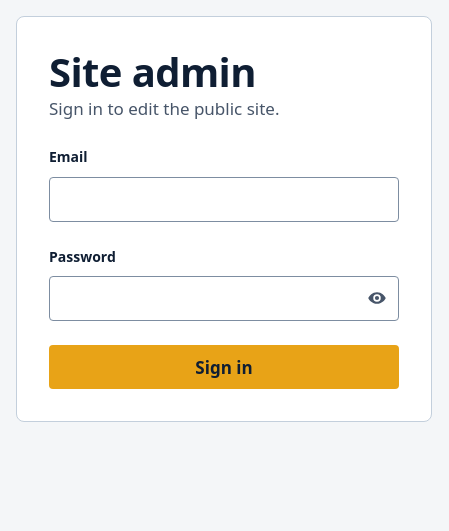
admin session › shows the backend's message when sign-in fails
Type "admin@example.com" into the field labelled "Email" at (224, 199), box x1=49 y1=177 x2=399 y2=222
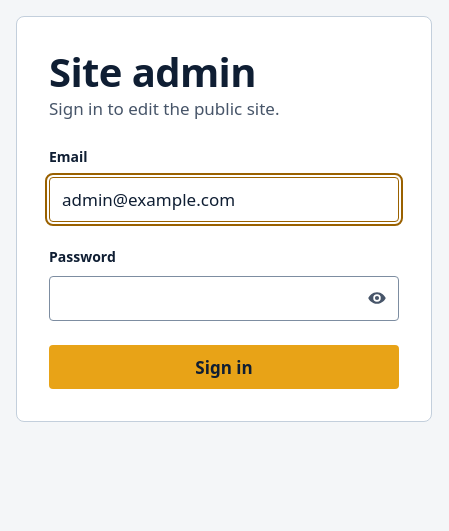
Type "wrong-password" into the password field labelled "Password" at (224, 299), box x1=49 y1=276 x2=399 y2=321
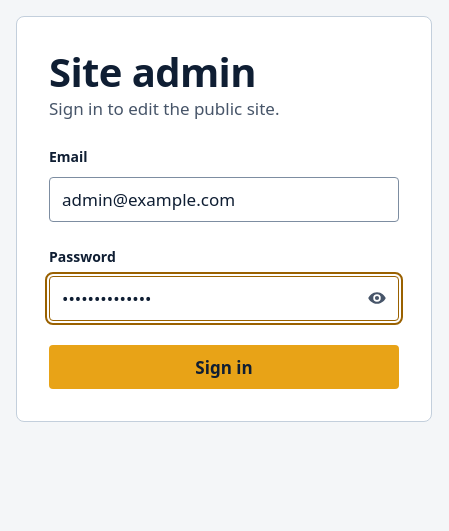
Click the button "Sign in" at (224, 367), box x1=49 y1=345 x2=399 y2=389
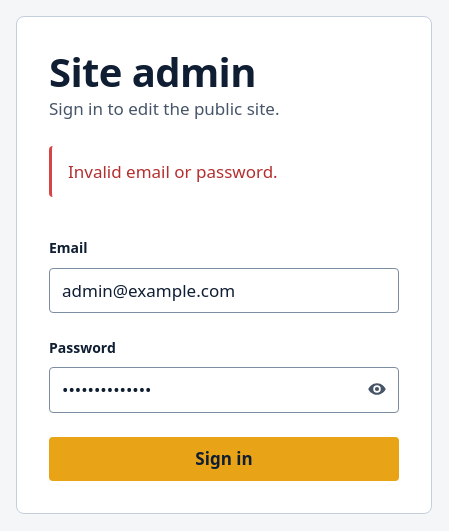
Expected: the message reads "Invalid email or password.", x1=68 y1=160 x2=278 y2=183
